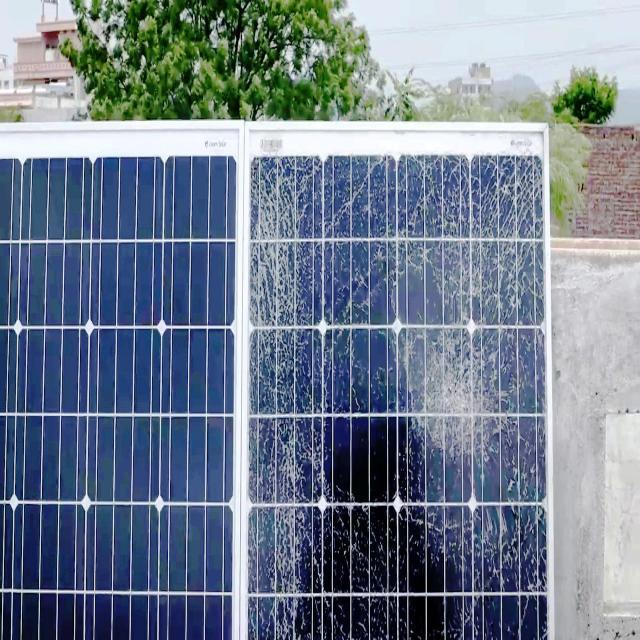faulty: (246, 142, 551, 637)
no faulty: (0, 135, 240, 640)
